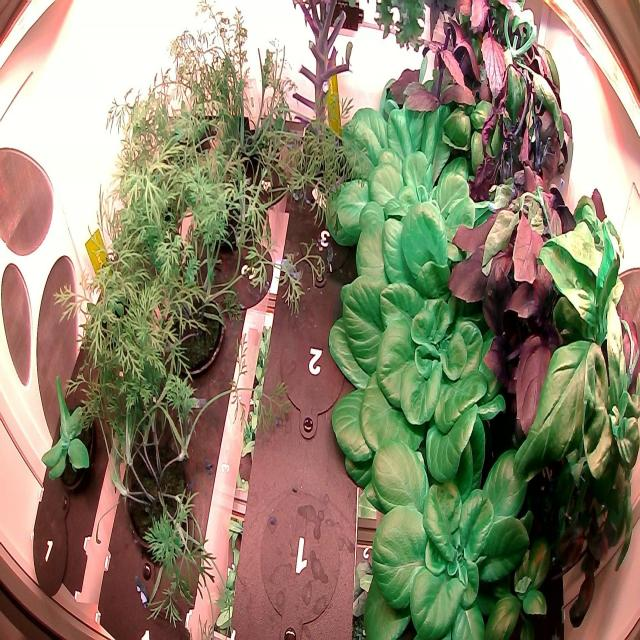Ready: (325, 252, 515, 506), (316, 138, 507, 307), (337, 85, 473, 225)
empty_pod: (252, 482, 346, 633), (275, 303, 355, 440), (291, 192, 355, 289)
young: (361, 406, 545, 640), (36, 370, 104, 500)
